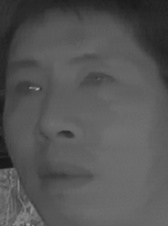eye: (76, 68, 118, 94), (8, 76, 46, 101)
mouth: (36, 157, 96, 196)
